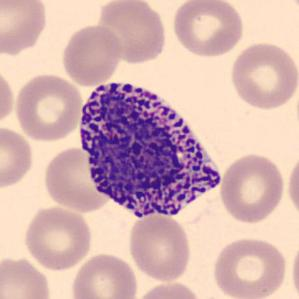Basophil: (73, 72, 229, 227)
RBC: (12, 71, 84, 143), (210, 234, 289, 299), (41, 144, 114, 214), (228, 39, 298, 112), (218, 151, 286, 225), (20, 204, 94, 271), (94, 0, 169, 66), (126, 212, 194, 284), (169, 0, 245, 59), (59, 22, 124, 87), (69, 251, 140, 299), (0, 0, 49, 57), (0, 253, 54, 299), (0, 124, 36, 190), (133, 279, 203, 299), (0, 65, 16, 130), (285, 150, 299, 222), (288, 234, 299, 298), (282, 0, 299, 19)
